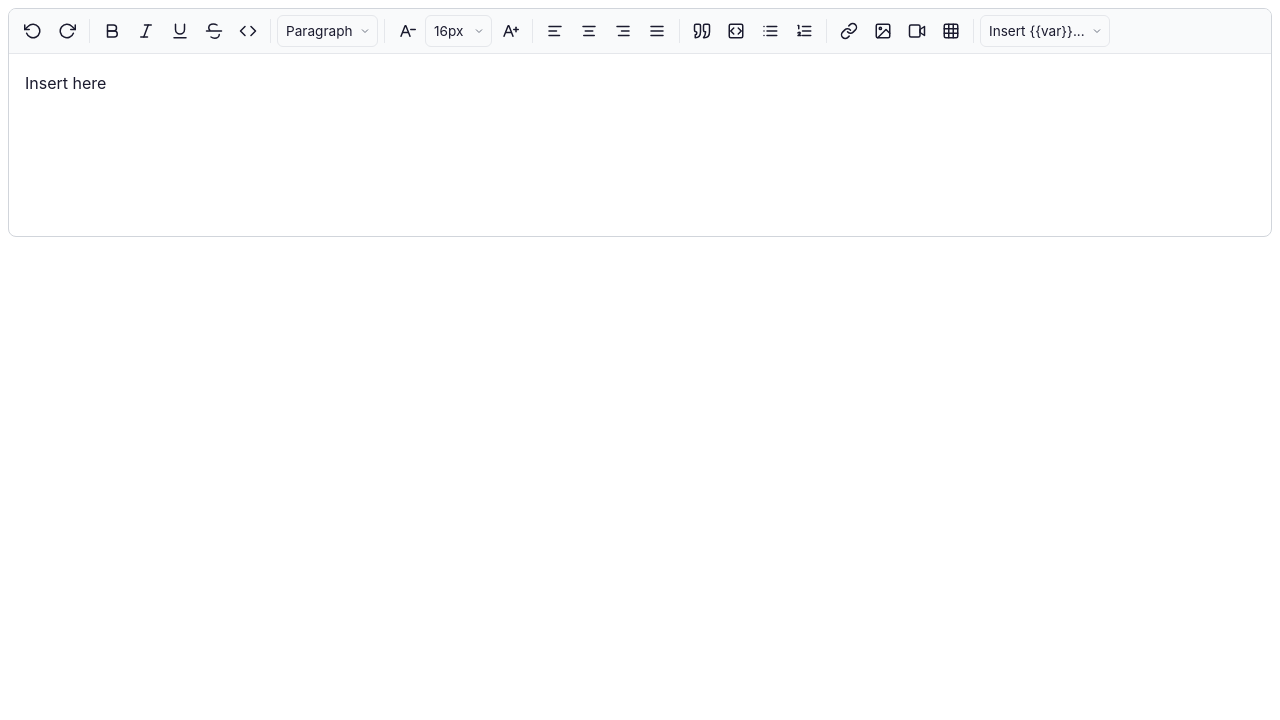
RichTextEditor insert tools › opens the image dialog
Click the button titled "Insert Image" at (883, 31), box [867,15,899,47]
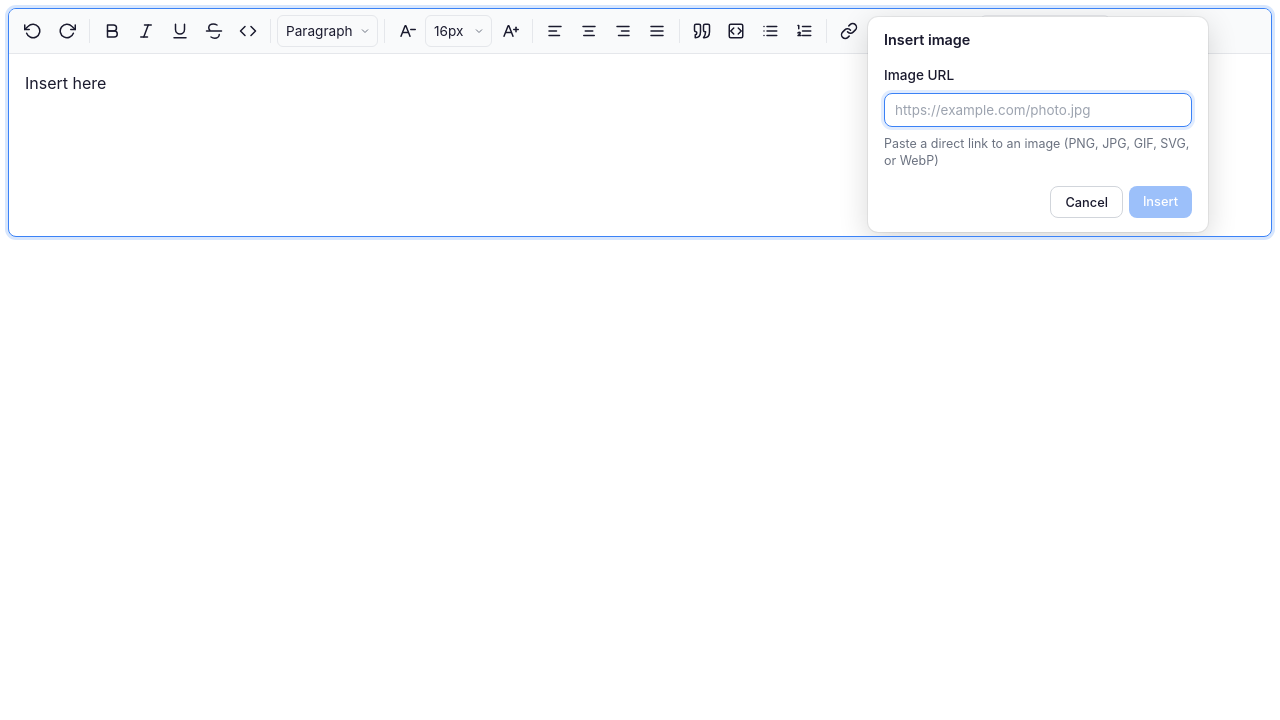
Result: the dialog shows "Insert image" at [884,31,970,48]
